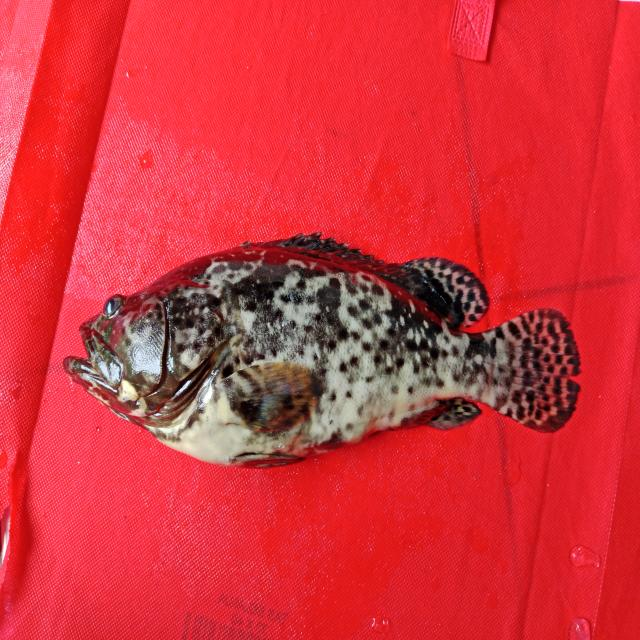ikan: (50, 229, 603, 483)
